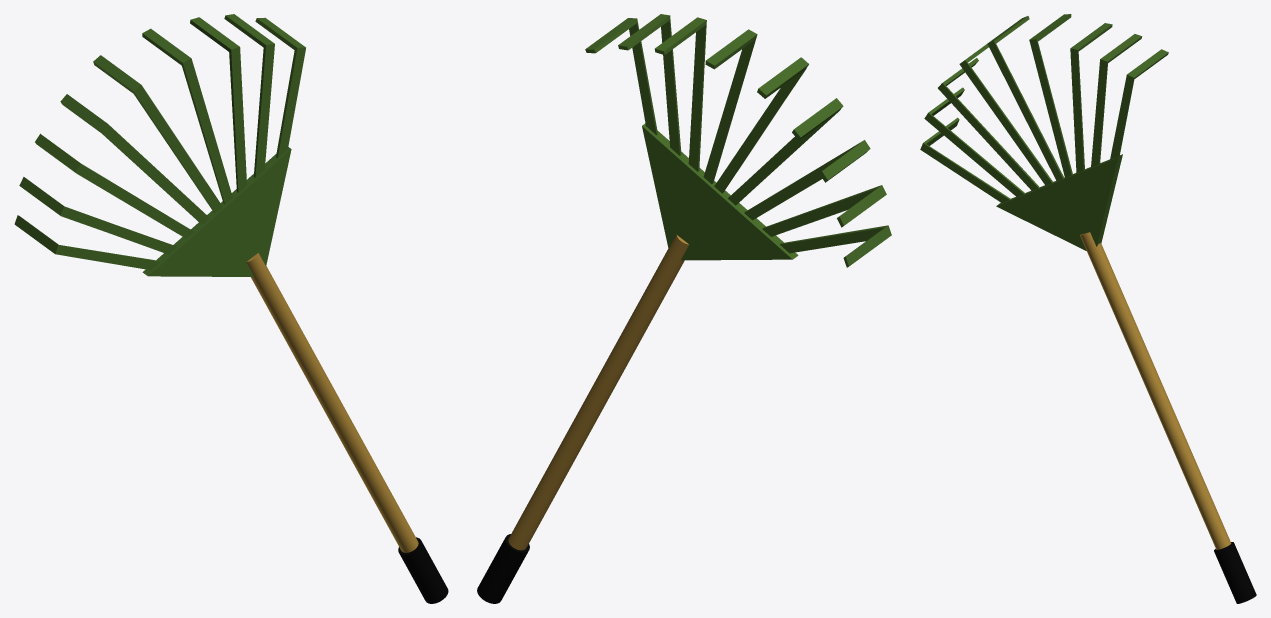
Rendered from Rake Complete.fbx.
3 renders of one model, left to right at view 1: azimuth 30°, elevation 25°; view 2: azimuth 150°, elevation 25°; view 3: azimuth 330°, elevation 25°, orthographic. The views are drawn at different scales.
Parts seen in each view (by area): view 1: pCube1, pCylinder1, pCube7, pCube6, pCube5, pCube8, pCube9, pCube4, pCube10, pCube2, pCube3, pCylinder2; view 2: pCube1, pCylinder1, pCube6, pCube7, pCube5, pCube4, pCube10, pCube8, pCube9, pCube3, pCylinder2, pCube2; view 3: pCylinder1, pCube1, pCube7, pCube6, pCube5, pCube8, pCube9, pCube4, pCylinder2, pCube10, pCube2, pCube3.
Part boxes in pixels (bbox=[...]): pCube1: bbox=[142, 147, 291, 276]; pCylinder1: bbox=[246, 253, 418, 552]; pCube7: bbox=[93, 55, 222, 213]; pCube6: bbox=[142, 28, 232, 204]; pCube5: bbox=[190, 17, 246, 192]; pCube8: bbox=[60, 94, 209, 224]; pCube9: bbox=[35, 133, 194, 238]; pCube4: bbox=[224, 14, 274, 177]; pCube10: bbox=[19, 177, 176, 254]; pCube2: bbox=[255, 17, 305, 157]; pCube3: bbox=[14, 215, 159, 270]; pCylinder2: bbox=[398, 537, 448, 603]; pCube1: bbox=[642, 123, 798, 260]; pCylinder1: bbox=[508, 235, 689, 550]; pCube6: bbox=[703, 29, 757, 183]; pCube7: bbox=[714, 57, 808, 193]; pCube5: bbox=[654, 17, 706, 171]; pCube4: bbox=[618, 14, 681, 155]; pCube10: bbox=[762, 185, 886, 236]; pCube8: bbox=[728, 98, 843, 205]; pCube9: bbox=[744, 140, 870, 220]; pCube3: bbox=[780, 225, 891, 267]; pCylinder2: bbox=[477, 534, 529, 603]; pCube2: bbox=[585, 18, 657, 135]; pCylinder1: bbox=[1080, 232, 1231, 549]; pCube1: bbox=[996, 154, 1122, 250]; pCube7: bbox=[987, 16, 1064, 181]; pCube6: bbox=[1029, 14, 1072, 177]; pCube5: bbox=[1070, 23, 1112, 173]; pCube8: bbox=[959, 44, 1053, 185]; pCube9: bbox=[938, 58, 1039, 191]; pCube4: bbox=[1091, 34, 1142, 167]; pCylinder2: bbox=[1214, 542, 1256, 603]; pCube10: bbox=[924, 87, 1025, 197]; pCube2: bbox=[1110, 49, 1168, 196]; pCube3: bbox=[920, 117, 1010, 202].
Bounding box in the file's own units: 3.29 × 4.83 × 0.6759.
